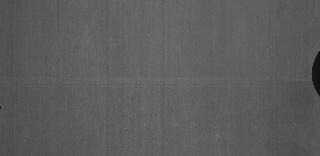punching hole: (0, 101, 6, 113)
welding line: (1, 76, 319, 86)
